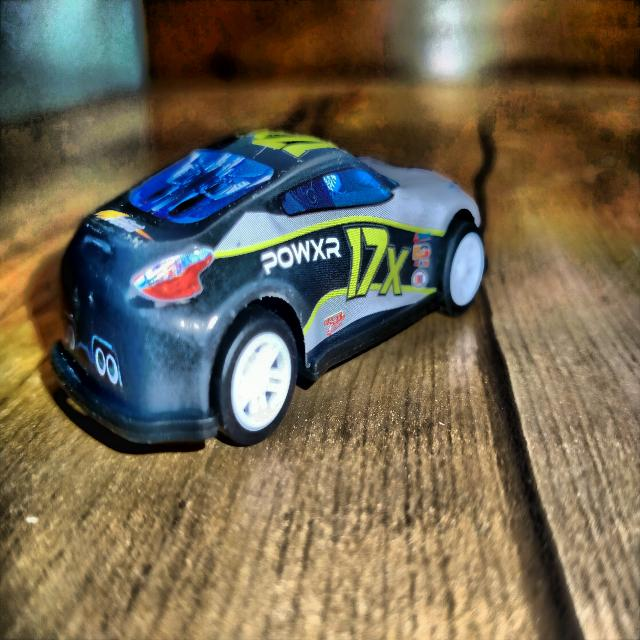Car: (52, 132, 486, 445)
